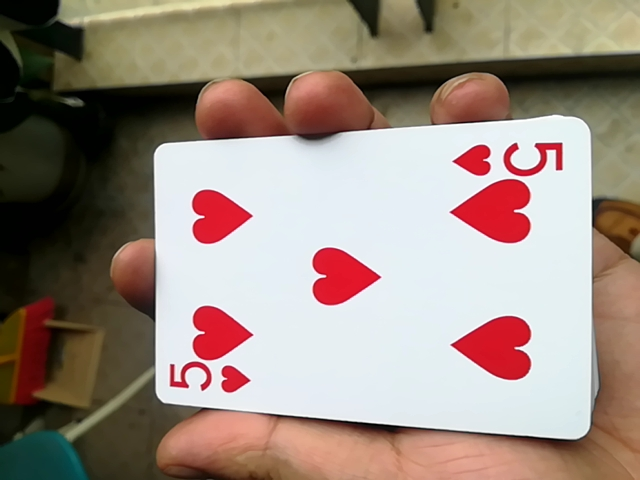hx 5: (139, 123, 586, 439)
